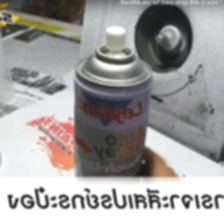aerosol_cans: (68, 23, 157, 219)
